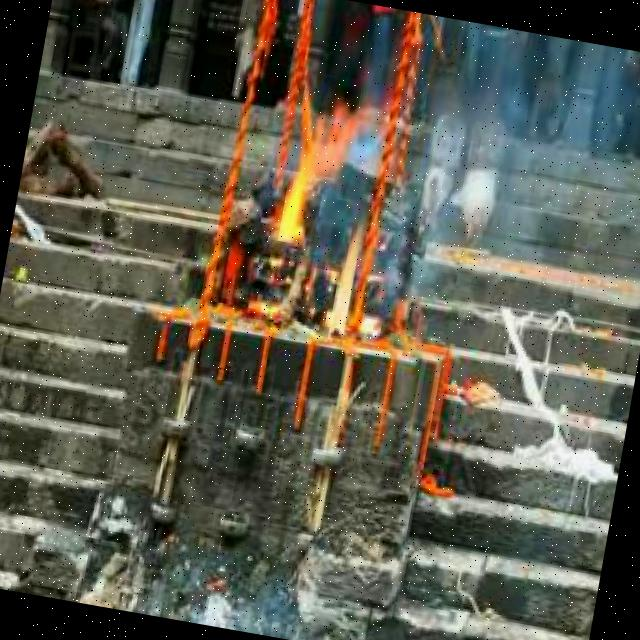Fire: (264, 90, 360, 256), (306, 215, 384, 339)
